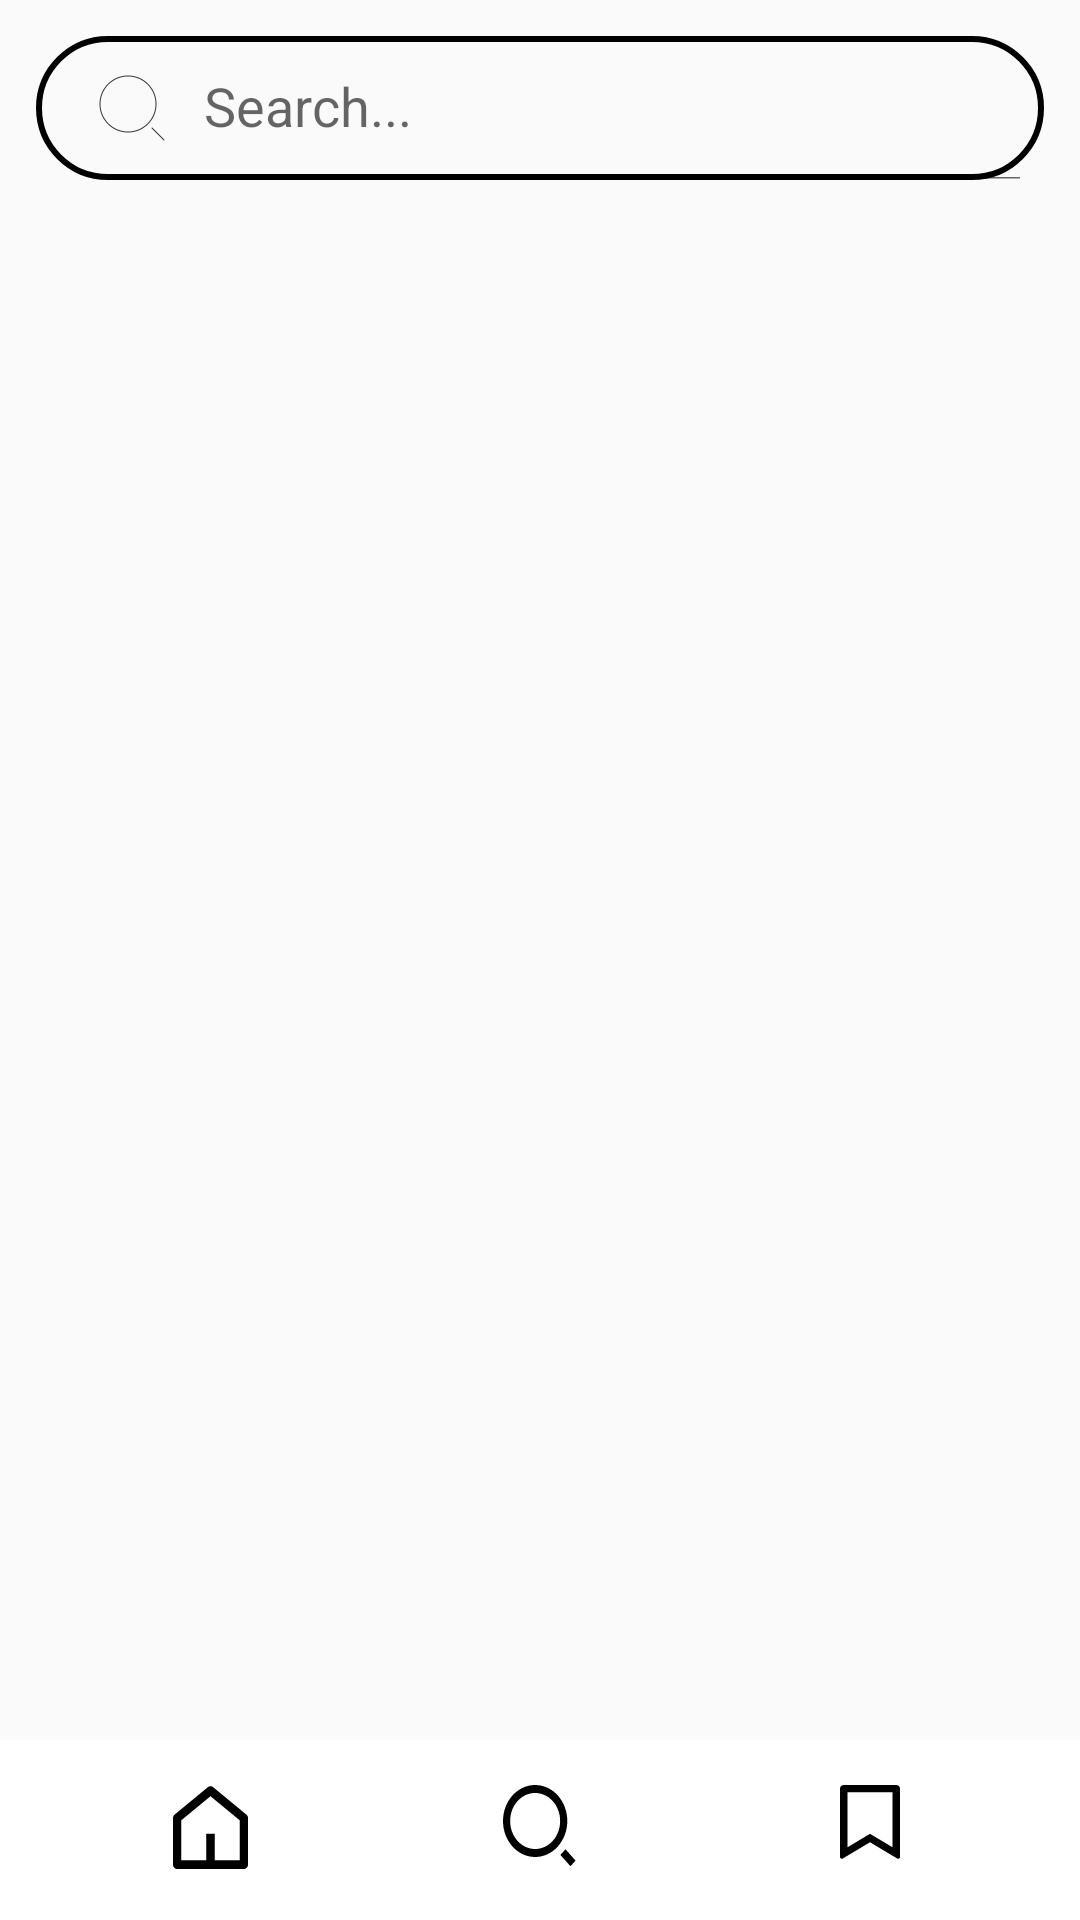

Icon click points for this 1080*1920 phone screenshot, format [x,y]:
home: [210,1827]
Saved Data: [870,1822]
search: [539,1825]
